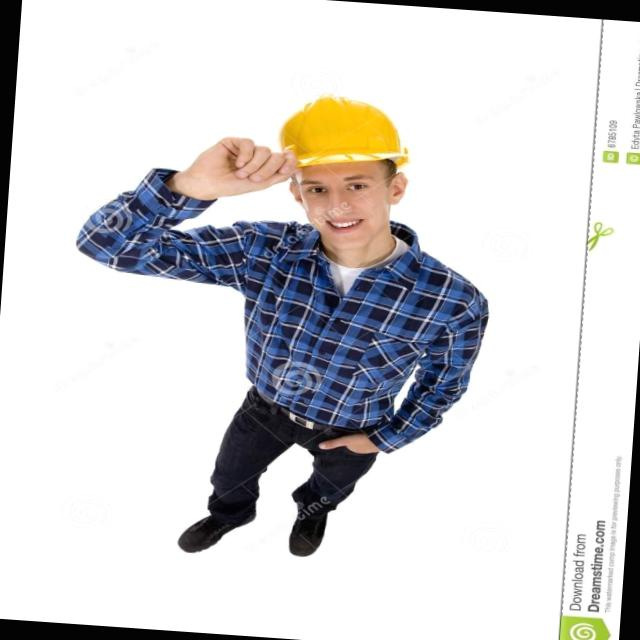helmet: (247, 82, 416, 188)
no-vest: (215, 215, 484, 452)
